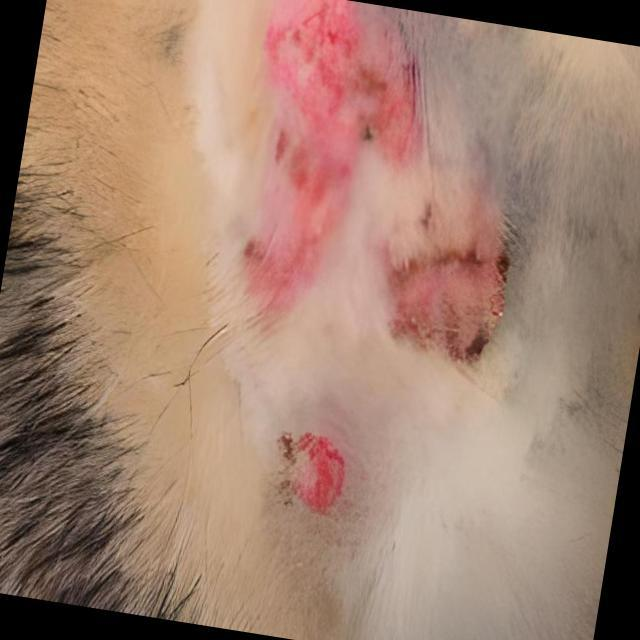allergic dermatitis: (212, 0, 415, 328), (378, 244, 528, 366), (260, 421, 364, 529)
